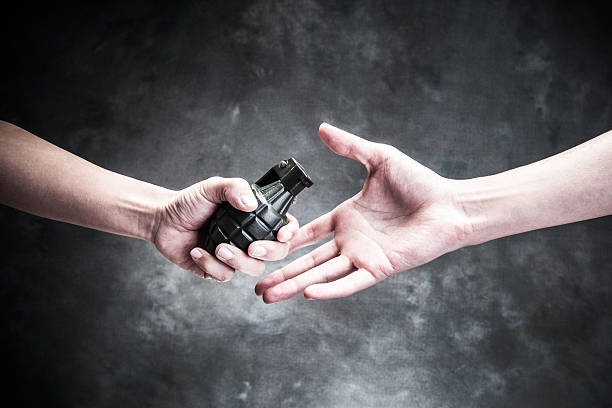e1: (193, 156, 312, 251)
